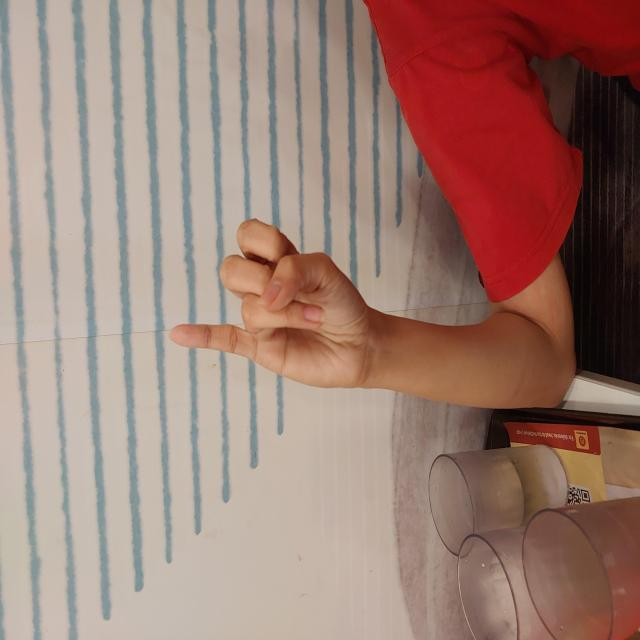I: (252, 166, 424, 370)
